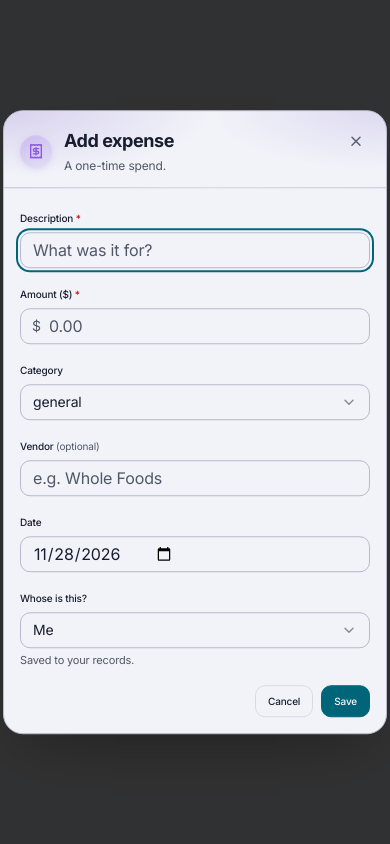
Test case: Add Expense dialog (EDGE-001, PROP-005, EDGE-003) › refuses $10,000,000,000 inline and never calls the API
The image size is (390, 844).
Type "QA big" into the field with test id "input-quick-add-expense-text" at (195, 250), box top-left (20, 232), bottom-right (370, 268)
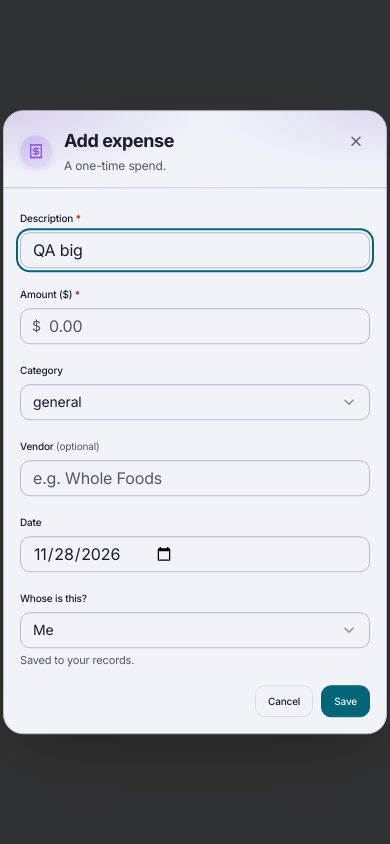
Type "1e10" into the field with test id "input-quick-add-expense-amount" at (195, 326), box top-left (20, 308), bottom-right (370, 344)
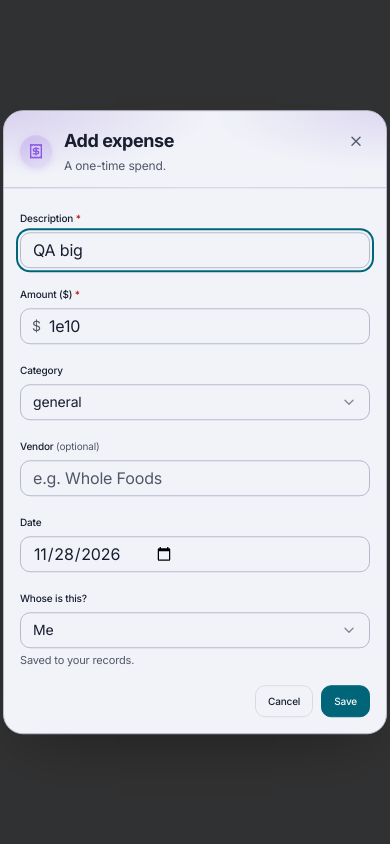
Click the button with test id "btn-quick-add-expense-save" at (346, 701), box top-left (321, 685), bottom-right (370, 717)
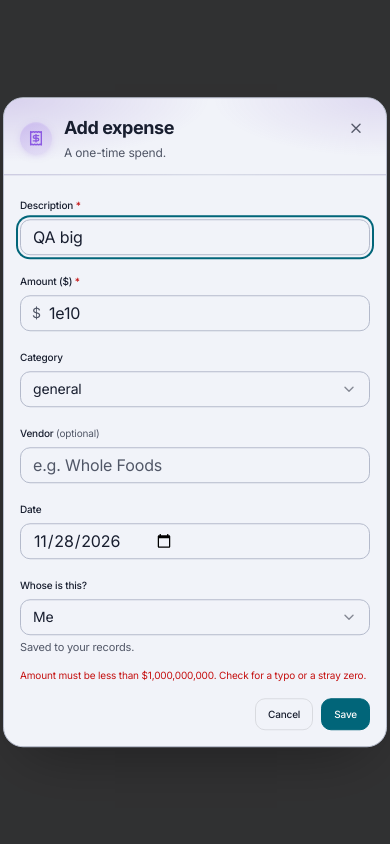
Check: the text with test id "error-quick-add-expense" shows "less than", box top-left (20, 669), bottom-right (366, 681)
